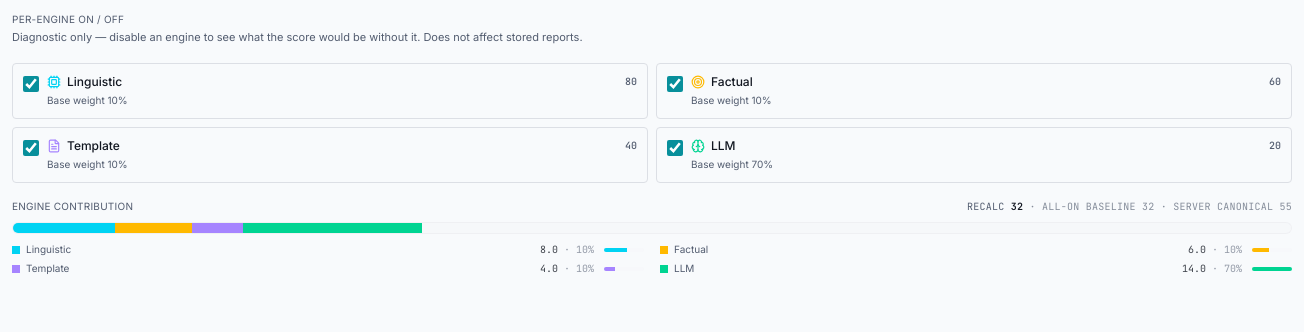
Test: EngineTogglePanel › uses server-provided fusionWeights instead of hard-coded defaults
The width and height of the screenshot is (1304, 332).
What coordinates should you click on to do the following:
click the checkbox with test id "engine-toggle-llm"
I would click on:
 (675, 148)
Its box is [667, 140, 683, 156].
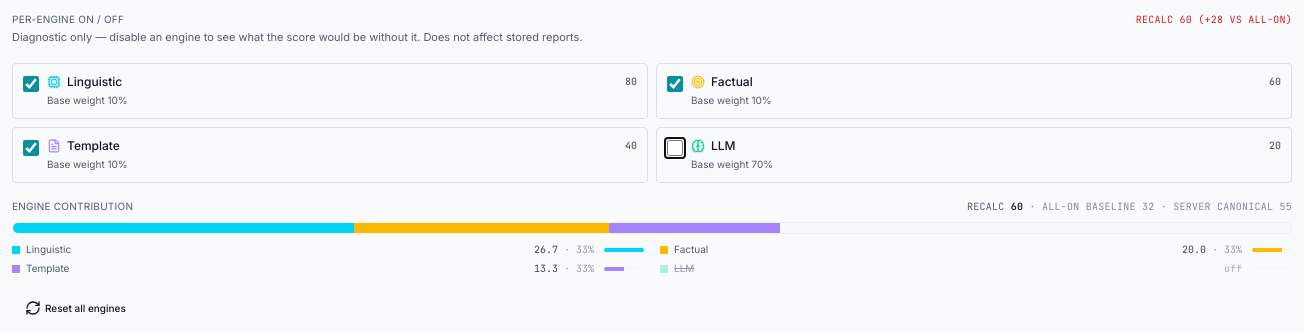
Now the text with test id "engine-toggle-recalc-score" shows "60", box [1180, 13, 1192, 26]
Now the text with test id "engine-toggle-recalc-score" shows "+28", box [1136, 12, 1292, 27]
